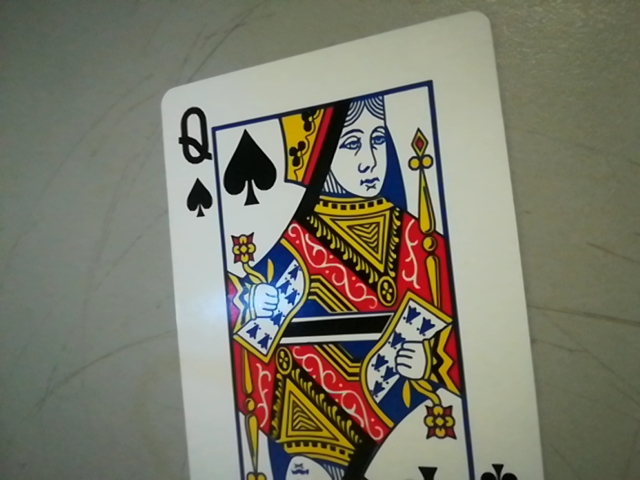ht q: (168, 98, 219, 217)
